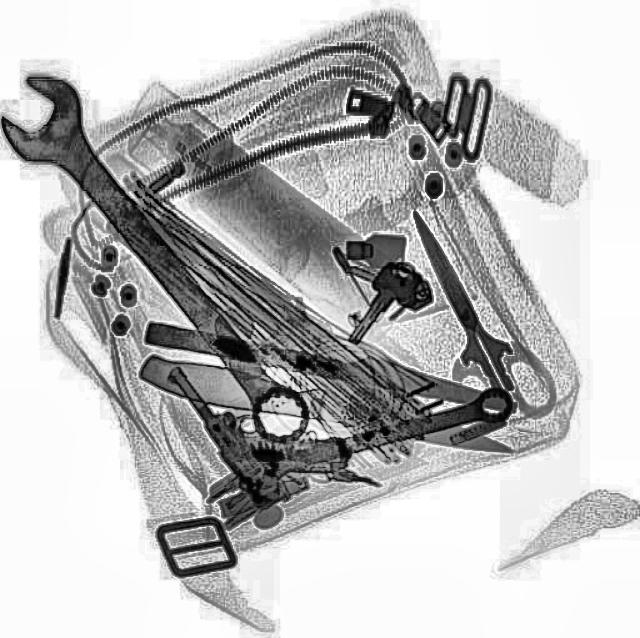Gun: (162, 318, 356, 516)
Knife: (136, 348, 516, 466), (142, 310, 520, 418), (392, 200, 526, 400)
Wrench: (0, 85, 338, 461), (233, 382, 514, 491)
